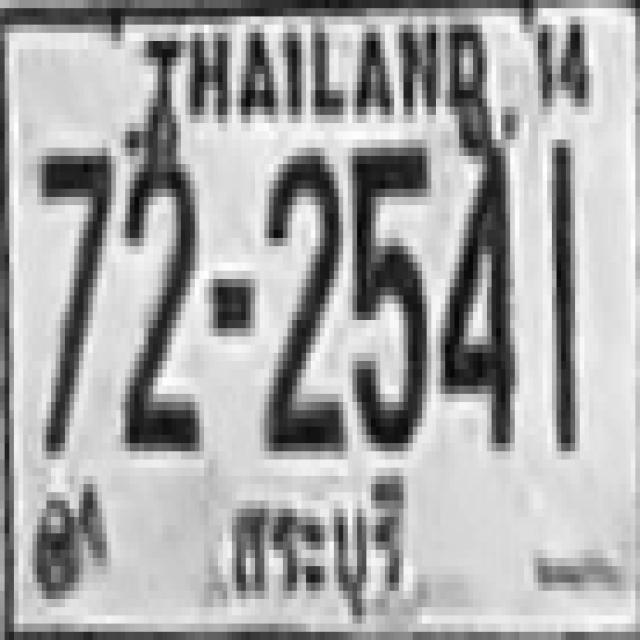1: (547, 140, 575, 452)
2: (118, 131, 197, 443), (262, 144, 341, 447)
4: (436, 107, 510, 443)
5: (350, 140, 424, 443)
7: (35, 140, 109, 452)
SaraBuri: (220, 473, 416, 632)
